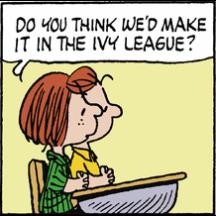charlie: (68, 72, 126, 190)
